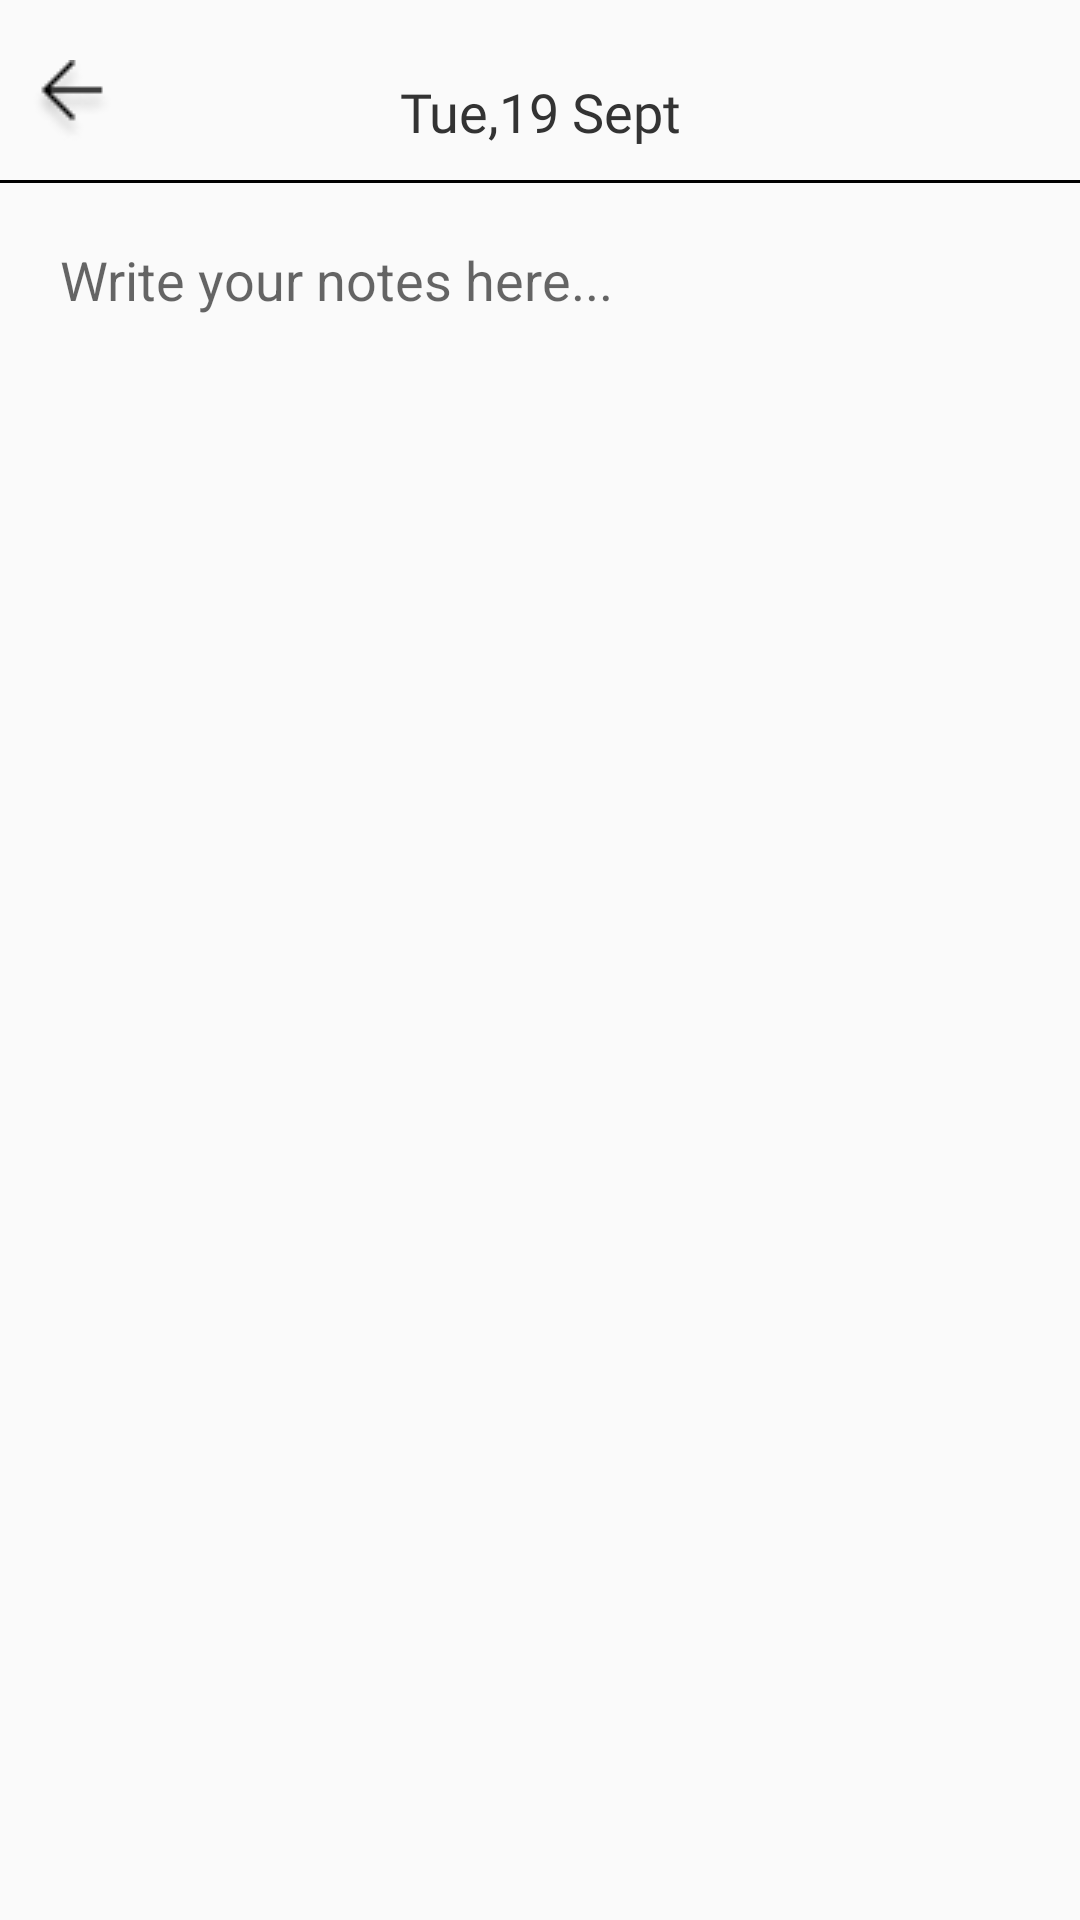

Icon bounding boxes for this 1080px x 1920px phone screenshot, format (x1, y1, x2, y2):
backarrow: (41, 60, 103, 121)
